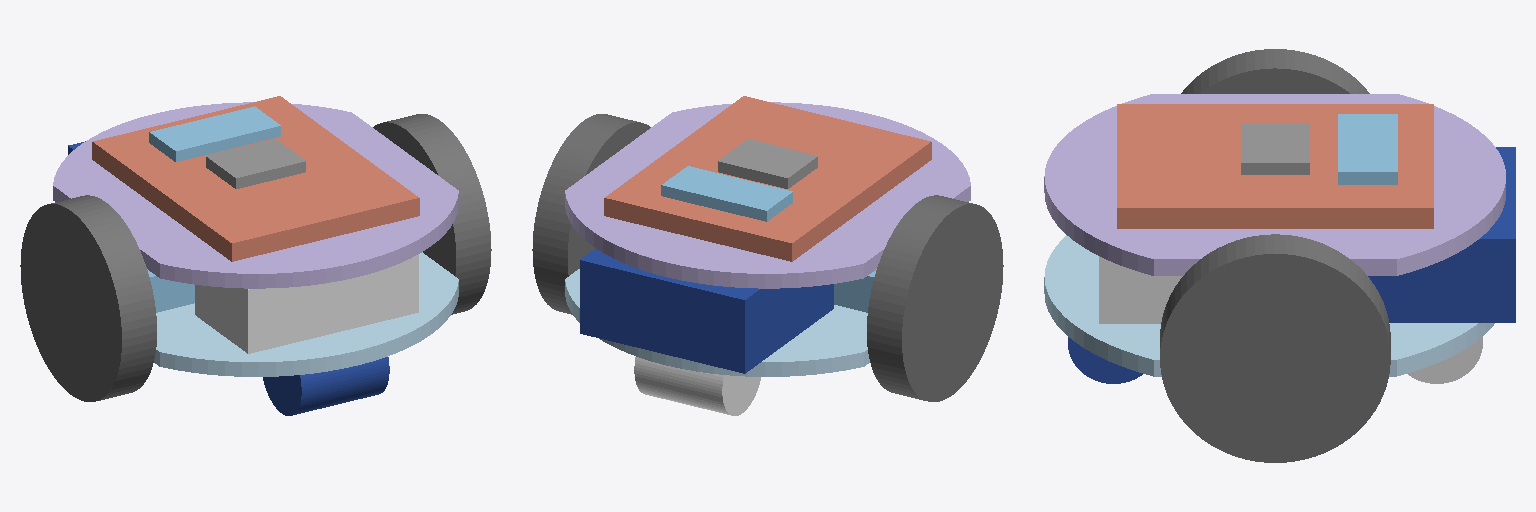
robot.urdf — onshape:
<robot name="onshape">
<link name="baseplate">
<visual>
<origin xyz="7.0843416324350982904e-05 -0.0069324573774356378075 -0.011855225579580292231" rpy="0 -0 0" />
<geometry>
<mesh filename="package://hide_and_seek_robot/urdf/baseplate.stl"/>
</geometry>
<material name="baseplate_material">
<color rgba="0.76862745098039220171 0.88627450980392152857 0.95294117647058818044 1.0"/>
</material>
</visual>
<collision>
<origin xyz="7.0843416324350982904e-05 -0.0069324573774356378075 -0.011855225579580292231" rpy="0 -0 0" />
<geometry>
<mesh filename="package://hide_and_seek_robot/urdf/baseplate.stl"/>
</geometry>
</collision>
<inertial>
<origin xyz="7.08434163243536392e-05 -0.0069324573774356447464 -0.013855225579580292272" rpy="0 0 0"/>
<mass value="0.036593764457776671584" />
<inertia ixx="2.4214215997551075062e-05" ixy="0"  ixz="0" iyy="1.9036929895563286575e-05" iyz="0" izz="4.3153562521226957772e-05" />
</inertial>
</link>

<link name="motor1">
<visual>
<origin xyz="0.044000000000000004385 -1.561251128379126385e-17 0" rpy="3.141592653589793116 -0 0" />
<geometry>
<mesh filename="package://hide_and_seek_robot/urdf/motor1.stl"/>
</geometry>
<material name="motor1_material">
<color rgba="0.61568627450980395466 0.81176470588235294379 0.92941176470588238168 1.0"/>
</material>
</visual>
<collision>
<origin xyz="0.044000000000000004385 -1.561251128379126385e-17 0" rpy="3.141592653589793116 -0 0" />
<geometry>
<mesh filename="package://hide_and_seek_robot/urdf/motor1.stl"/>
</geometry>
</collision>
<inertial>
<origin xyz="0.020000000000000000416 -2.2522953893521321077e-18 -0.0050000000000000001041" rpy="0 0 0"/>
<mass value="0.037994000000000006934" />
<inertia ixx="7.8017512833333345555e-07" ixy="0"  ixz="0" iyy="5.3824833333333347023e-06" iyz="0" izz="5.5294251283333350371e-06" />
</inertial>
</link>

<link name="wheel1">
<visual>
<origin xyz="1.3877787807814456755e-17 -0.0050000000000000018388 0.044000000000000004385" rpy="-1.570796326794896558 -1.570796326794896558 0" />
<geometry>
<mesh filename="package://hide_and_seek_robot/urdf/wheel1.stl"/>
</geometry>
<material name="wheel1_material">
<color rgba="0.49803921568627451677 0.49803921568627451677 0.49803921568627451677 1.0"/>
</material>
</visual>
<collision>
<origin xyz="1.3877787807814456755e-17 -0.0050000000000000018388 0.044000000000000004385" rpy="-1.570796326794896558 -1.570796326794896558 0" />
<geometry>
<mesh filename="package://hide_and_seek_robot/urdf/wheel1.stl"/>
</geometry>
</collision>
<inertial>
<origin xyz="0 0 -0.004999999999999997502" rpy="0 0 0"/>
<mass value="0.024543692606170262188" />
<inertia ixx="4.0394827414321900924e-06" ixy="0"  ixz="0" iyy="4.0394827414321892453e-06" iyz="0" izz="7.6699039394282082213e-06" />
</inertial>
</link>

<joint name="right_wheel" type="continuous">
<origin xyz="0 0 -0.0050000000000000001041" rpy="-1.570796326794896558 -0 -1.570796326794896558" />
<parent link="motor1" />
<child link="wheel1" />
<axis xyz="0 0 1"/>
<limit effort="1" velocity="20" />
<joint_properties friction="0.0"/>
</joint>

<joint name="fixed_1" type="fixed">
<origin xyz="-0.04242915658367565207 -0.0069324573774356239297 -0.011855225579580292231" rpy="3.141592653589793116 -0 0" />
<parent link="baseplate" />
<child link="motor1" />
<axis xyz="0 0 1"/>
<limit effort="1" velocity="20" />
<joint_properties friction="0.0"/>
</joint>

<link name="motor2">
<visual>
<origin xyz="-0.043999999999999997446 1.3877787807814456755e-17 0" rpy="3.141592653589793116 -0 0" />
<geometry>
<mesh filename="package://hide_and_seek_robot/urdf/motor2.stl"/>
</geometry>
<material name="motor2_material">
<color rgba="0.64705882352941179736 0.64705882352941179736 0.64705882352941179736 1.0"/>
</material>
</visual>
<collision>
<origin xyz="-0.043999999999999997446 1.3877787807814456755e-17 0" rpy="3.141592653589793116 -0 0" />
<geometry>
<mesh filename="package://hide_and_seek_robot/urdf/motor2.stl"/>
</geometry>
</collision>
<inertial>
<origin xyz="-0.019999999999999996947 3.4350261755799889777e-18 -0.0050000000000000009714" rpy="0 0 0"/>
<mass value="0.037993999999999993056" />
<inertia ixx="7.8017512833333303203e-07" ixy="0"  ixz="0" iyy="5.3824833333333296201e-06" iyz="0" izz="5.5294251283333291079e-06" />
</inertial>
</link>

<link name="wheel2">
<visual>
<origin xyz="1.3877787807814456755e-17 0.0050000000000000018388 0.044000000000000004385" rpy="1.570796326794896558 1.570796326794896558 0" />
<geometry>
<mesh filename="package://hide_and_seek_robot/urdf/wheel2.stl"/>
</geometry>
<material name="wheel2_material">
<color rgba="0.49803921568627451677 0.49803921568627451677 0.49803921568627451677 1.0"/>
</material>
</visual>
<collision>
<origin xyz="1.3877787807814456755e-17 0.0050000000000000018388 0.044000000000000004385" rpy="1.570796326794896558 1.570796326794896558 0" />
<geometry>
<mesh filename="package://hide_and_seek_robot/urdf/wheel2.stl"/>
</geometry>
</collision>
<inertial>
<origin xyz="0 0 -0.004999999999999997502" rpy="0 0 0"/>
<mass value="0.024543692606170262188" />
<inertia ixx="4.0394827414321900924e-06" ixy="0"  ixz="0" iyy="4.0394827414321892453e-06" iyz="0" izz="7.6699039394282082213e-06" />
</inertial>
</link>

<joint name="left_wheel" type="continuous">
<origin xyz="0 0 -0.0050000000000000001041" rpy="1.570796326794896558 -0 -1.570796326794896558" />
<parent link="motor2" />
<child link="wheel2" />
<axis xyz="0 0 1"/>
<limit effort="1" velocity="20" />
<joint_properties friction="0.0"/>
</joint>

<link name="front_roller">
<visual>
<origin xyz="0.035000000000000003331 -0.010000000000000001943 0" rpy="1.570796326794896558 1.570796326794896558 0" />
<geometry>
<mesh filename="package://hide_and_seek_robot/urdf/front_roller.stl"/>
</geometry>
<material name="front_roller_material">
<color rgba="0.2313725490196078538 0.38039215686274507888 0.7058823529411765163 1.0"/>
</material>
</visual>
<collision>
<origin xyz="0.035000000000000003331 -0.010000000000000001943 0" rpy="1.570796326794896558 1.570796326794896558 0" />
<geometry>
<mesh filename="package://hide_and_seek_robot/urdf/front_roller.stl"/>
</geometry>
</collision>
<inertial>
<origin xyz="0 0 1.6851185064652314734e-18" rpy="0 0 0"/>
<mass value="0.0098174770424681069569" />
<inertia ixx="7.5676385535691614188e-07" ixy="0"  ixz="0" iyy="7.5676385535691614188e-07" iyz="0" izz="4.9087385212340555147e-07" />
</inertial>
</link>

<joint name="front_wheel" type="continuous">
<origin xyz="-0.042999999999999989619 0.03500000000000001027 0.010000000000000000208" rpy="1.570796326794896558 -0 -1.57079632679489678" />
<parent link="motor2" />
<child link="front_roller" />
<axis xyz="0 0 1"/>
<limit effort="1" velocity="20" />
<joint_properties friction="0.0"/>
</joint>

<link name="back_roller">
<visual>
<origin xyz="-0.035000000000000003331 -0.010000000000000001943 -5.42101086242752217e-20" rpy="1.570796326794896558 1.570796326794896558 0" />
<geometry>
<mesh filename="package://hide_and_seek_robot/urdf/back_roller.stl"/>
</geometry>
<material name="back_roller_material">
<color rgba="0.91764705882352937127 0.91764705882352937127 0.91764705882352937127 1.0"/>
</material>
</visual>
<collision>
<origin xyz="-0.035000000000000003331 -0.010000000000000001943 -5.42101086242752217e-20" rpy="1.570796326794896558 1.570796326794896558 0" />
<geometry>
<mesh filename="package://hide_and_seek_robot/urdf/back_roller.stl"/>
</geometry>
</collision>
<inertial>
<origin xyz="0 0 1.6309083978409562517e-18" rpy="0 0 0"/>
<mass value="0.0098174770424681069569" />
<inertia ixx="7.5676385535691614188e-07" ixy="0"  ixz="0" iyy="7.5676385535691614188e-07" iyz="0" izz="4.9087385212340544559e-07" />
</inertial>
</link>

<joint name="back_wheel" type="continuous">
<origin xyz="-0.043000000000000003497 -0.034999999999999996392 0.010000000000000000208" rpy="1.570796326794896558 -0 -1.57079632679489678" />
<parent link="motor2" />
<child link="back_roller" />
<axis xyz="0 0 1"/>
<limit effort="1" velocity="20" />
<joint_properties friction="0.0"/>
</joint>

<joint name="fixed_2" type="fixed">
<origin xyz="0.042570843416324360975 -0.006932457377435641277 -0.011855225579580292231" rpy="3.141592653589793116 -0 0" />
<parent link="baseplate" />
<child link="motor2" />
<axis xyz="0 0 1"/>
<limit effort="1" velocity="20" />
<joint_properties friction="0.0"/>
</joint>

<link name="battery">
<visual>
<origin xyz="2.6698478497455546687e-18 -0.023249999999999972078 0" rpy="3.141592653589793116 -0 0" />
<geometry>
<mesh filename="package://hide_and_seek_robot/urdf/battery.stl"/>
</geometry>
<material name="battery_material">
<color rgba="0.91764705882352937127 0.91764705882352937127 0.91764705882352937127 1.0"/>
</material>
</visual>
<collision>
<origin xyz="2.6698478497455546687e-18 -0.023249999999999972078 0" rpy="3.141592653589793116 -0 0" />
<geometry>
<mesh filename="package://hide_and_seek_robot/urdf/battery.stl"/>
</geometry>
</collision>
<inertial>
<origin xyz="-2.9767690742689923557e-18 0 -0.0087500000000000025674" rpy="0 0 0"/>
<mass value="0.17656121874999980426" />
<inertia ixx="1.483849909244786527e-05" ixy="0"  ixz="0" iyy="3.9115666670572879883e-05" iyz="0" izz="4.494218688932283555e-05" />
</inertial>
</link>

<joint name="fixed_3" type="fixed">
<origin xyz="7.0843416324346618991e-05 -0.031932457377435642665 -0.011855225579580292231" rpy="3.141592653589793116 -0 0" />
<parent link="baseplate" />
<child link="battery" />
<axis xyz="0 0 1"/>
<limit effort="1" velocity="20" />
<joint_properties friction="0.0"/>
</joint>

<link name="motor_driver">
<visual>
<origin xyz="8.6736173798840354721e-18 0.032000000000000007605 0" rpy="3.141592653589793116 -0 0" />
<geometry>
<mesh filename="package://hide_and_seek_robot/urdf/motor_driver.stl"/>
</geometry>
<material name="motor_driver_material">
<color rgba="0.2313725490196078538 0.38039215686274507888 0.7058823529411765163 1.0"/>
</material>
</visual>
<collision>
<origin xyz="8.6736173798840354721e-18 0.032000000000000007605 0" rpy="3.141592653589793116 -0 0" />
<geometry>
<mesh filename="package://hide_and_seek_robot/urdf/motor_driver.stl"/>
</geometry>
</collision>
<inertial>
<origin xyz="1.8611858772862470975e-18 0 -0.010000000000000001943" rpy="0 0 0"/>
<mass value="0.32467599999999996463" />
<inertia ixx="6.320359466666665546e-05" ixy="0"  ixz="0" iyy="7.0589973666666672582e-05" iyz="0" izz="0.0001121485016666666745" />
</inertial>
</link>

<joint name="fixed_4" type="fixed">
<origin xyz="7.0843416324346618991e-05 0.023067542622564357613 -0.011855225579580292231" rpy="3.141592653589793116 -0 0" />
<parent link="baseplate" />
<child link="motor_driver" />
<axis xyz="0 0 1"/>
<limit effort="1" velocity="20" />
<joint_properties friction="0.0"/>
</joint>

<link name="midplate">
<visual>
<origin xyz="4.3639137442541553469e-18 -3.4694469519536141888e-18 0.020000000000000000416" rpy="3.141592653589793116 -0 0" />
<geometry>
<mesh filename="package://hide_and_seek_robot/urdf/midplate.stl"/>
</geometry>
<material name="midplate_material">
<color rgba="0.80000000000000004441 0.74901960784313725839 0.91372549019607840481 1.0"/>
</material>
</visual>
<collision>
<origin xyz="4.3639137442541553469e-18 -3.4694469519536141888e-18 0.020000000000000000416" rpy="3.141592653589793116 -0 0" />
<geometry>
<mesh filename="package://hide_and_seek_robot/urdf/midplate.stl"/>
</geometry>
</collision>
<inertial>
<origin xyz="1.1107992583584590315e-17 1.5550837307701458575e-18 -0.0019999999999999983069" rpy="0 0 0"/>
<mass value="0.036593764457776678523" />
<inertia ixx="2.4214215997551075062e-05" ixy="0"  ixz="0" iyy="1.9036929895563283187e-05" iyz="0" izz="4.3153562521226957772e-05" />
</inertial>
</link>

<link name="arduino">
<visual>
<origin xyz="6.9117888495950907668e-19 0 0.0240000000000000005" rpy="3.141592653589793116 -0 0" />
<geometry>
<mesh filename="package://hide_and_seek_robot/urdf/arduino.stl"/>
</geometry>
<material name="arduino_material">
<color rgba="0.88235294117647056211 0.57254901960784310155 0.47843137254901962896 1.0"/>
</material>
</visual>
<collision>
<origin xyz="6.9117888495950907668e-19 0 0.0240000000000000005" rpy="3.141592653589793116 -0 0" />
<geometry>
<mesh filename="package://hide_and_seek_robot/urdf/arduino.stl"/>
</geometry>
</collision>
<inertial>
<origin xyz="4.5271221738092937797e-18 -1.9072041788098716046e-18 -0.0025000000000000022204" rpy="0 0 0"/>
<mass value="0.14357874510000009916" />
<inertia ixx="5.6572614772770010597e-05" ixy="0"  ixz="0" iyy="3.4341111607478171292e-05" iyz="0" izz="9.0315481608998197547e-05" />
</inertial>
</link>

<link name="imu">
<visual>
<origin xyz="-2.9137933385547931664e-18 8.6736173798840354721e-19 0.028999999999999998002" rpy="3.141592653589793116 -0 0" />
<geometry>
<mesh filename="package://hide_and_seek_robot/urdf/imu.stl"/>
</geometry>
<material name="imu_material">
<color rgba="0.64705882352941179736 0.64705882352941179736 0.64705882352941179736 1.0"/>
</material>
</visual>
<collision>
<origin xyz="-2.9137933385547931664e-18 8.6736173798840354721e-19 0.028999999999999998002" rpy="3.141592653589793116 -0 0" />
<geometry>
<mesh filename="package://hide_and_seek_robot/urdf/imu.stl"/>
</geometry>
</collision>
<inertial>
<origin xyz="-1.3700110882781381254e-18 4.5954478475168219139e-19 -0.0014999999999999978628" rpy="0 0 0"/>
<mass value="0.007064999999999999232" />
<inertia ixx="1.3776750000000000593e-07" ixy="0"  ixz="0" iyy="2.4079875000000000415e-07" iyz="0" izz="3.6796874999999999741e-07" />
</inertial>
</link>

<joint name="fixed_7" type="fixed">
<origin xyz="4.7433845046240818988e-19 -1.7347234759768070944e-18 -0.0049999999999999992367" rpy="0 -0 0" />
<parent link="arduino" />
<child link="imu" />
<axis xyz="0 0 1"/>
<limit effort="1" velocity="20" />
<joint_properties friction="0.0"/>
</joint>

<link name="bluetooth">
<visual>
<origin xyz="-2.6020852139652106416e-18 0.020000000000000003886 0.029000000000000001471" rpy="3.141592653589793116 -0 0" />
<geometry>
<mesh filename="package://hide_and_seek_robot/urdf/bluetooth.stl"/>
</geometry>
<material name="bluetooth_material">
<color rgba="0.61568627450980395466 0.81176470588235294379 0.92941176470588238168 1.0"/>
</material>
</visual>
<collision>
<origin xyz="-2.6020852139652106416e-18 0.020000000000000003886 0.029000000000000001471" rpy="3.141592653589793116 -0 0" />
<geometry>
<mesh filename="package://hide_and_seek_robot/urdf/bluetooth.stl"/>
</geometry>
</collision>
<inertial>
<origin xyz="-1.9506951587331346559e-18 6.9388939039072283776e-18 -0.0014999999999999978628" rpy="0 0 0"/>
<mass value="0.009184499999999998221" />
<inertia ixx="1.3623674999999997087e-07" ixy="0"  ixz="0" iyy="6.9572587499999969777e-07" iyz="0" izz="8.181858749999997501e-07" />
</inertial>
</link>

<joint name="fixed_8" type="fixed">
<origin xyz="4.7433845046240818988e-19 -0.020000000000000003886 -0.0049999999999999992367" rpy="0 -0 0" />
<parent link="arduino" />
<child link="bluetooth" />
<axis xyz="0 0 1"/>
<limit effort="1" velocity="20" />
<joint_properties friction="0.0"/>
</joint>

<joint name="fixed_6" type="fixed">
<origin xyz="-4.7433845046240818988e-19 8.6736173798840354721e-19 -0.0040000000000000000833" rpy="0 -0 0" />
<parent link="midplate" />
<child link="arduino" />
<axis xyz="0 0 1"/>
<limit effort="1" velocity="20" />
<joint_properties friction="0.0"/>
</joint>

<joint name="fixed_5" type="fixed">
<origin xyz="7.0843416324346618991e-05 -0.0069324573774356404096 0.0081447744204197081858" rpy="3.141592653589793116 -0 0" />
<parent link="baseplate" />
<child link="midplate" />
<axis xyz="0 0 1"/>
<limit effort="1" velocity="20" />
<joint_properties friction="0.0"/>
</joint>


</robot>

--- Render facts (derived) ---
3 views of the same robot in one strip: view 1: azimuth 30°, elevation 25°; view 2: azimuth 150°, elevation 25°; view 3: azimuth 270°, elevation 25° (orthographic).
Model onshape with 13 links and 12 joints (4 continuous, 8 fixed), rooted at baseplate, posed all joints at 0.
Visible links, largest first — view 1: arduino, midplate, wheel1, baseplate, battery, wheel2, front_roller, bluetooth, imu, motor1; view 2: arduino, midplate, wheel1, motor_driver, wheel2, baseplate, back_roller, bluetooth, imu, motor1; view 3: wheel2, arduino, midplate, baseplate, motor_driver, wheel1, bluetooth, battery, imu, back_roller, front_roller.
Boxes of the visible links, x1=… form: arduino: x1=92, y1=96, x2=419, y2=261; midplate: x1=53, y1=102, x2=458, y2=288; wheel1: x1=20, y1=195, x2=156, y2=401; baseplate: x1=154, y1=252, x2=458, y2=376; battery: x1=195, y1=254, x2=418, y2=353; wheel2: x1=373, y1=114, x2=491, y2=314; front_roller: x1=263, y1=357, x2=389, y2=415; bluetooth: x1=149, y1=106, x2=280, y2=161; imu: x1=206, y1=139, x2=305, y2=188; motor1: x1=147, y1=269, x2=194, y2=312; arduino: x1=604, y1=96, x2=931, y2=261; midplate: x1=565, y1=102, x2=970, y2=288; wheel1: x1=867, y1=195, x2=1003, y2=401; motor_driver: x1=580, y1=248, x2=833, y2=373; wheel2: x1=532, y1=114, x2=650, y2=314; baseplate: x1=565, y1=269, x2=869, y2=376; back_roller: x1=634, y1=357, x2=760, y2=415; bluetooth: x1=661, y1=166, x2=792, y2=221; imu: x1=718, y1=139, x2=817, y2=188; motor1: x1=834, y1=269, x2=876, y2=312; wheel2: x1=1160, y1=234, x2=1390, y2=462; arduino: x1=1117, y1=104, x2=1433, y2=228; midplate: x1=1044, y1=94, x2=1505, y2=275; baseplate: x1=1044, y1=235, x2=1494, y2=376; motor_driver: x1=1368, y1=147, x2=1515, y2=322; wheel1: x1=1181, y1=49, x2=1369, y2=93; bluetooth: x1=1338, y1=114, x2=1397, y2=184; battery: x1=1099, y1=256, x2=1182, y2=323; imu: x1=1241, y1=123, x2=1309, y2=174; back_roller: x1=1408, y1=337, x2=1482, y2=383; front_roller: x1=1068, y1=337, x2=1142, y2=383.
Size in the robot's own frame: 0.105 by 0.102 by 0.052 metres.
13 mesh visuals loaded from 13 distinct referenced files (13 binary STL).